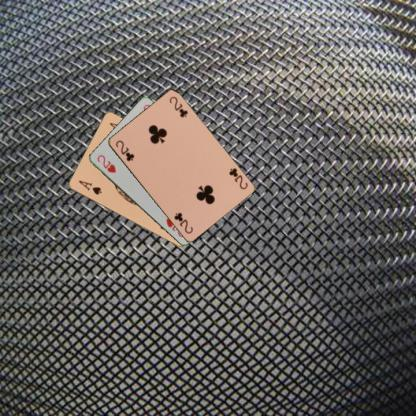2c: (226, 165, 249, 191), (113, 138, 135, 162)
2h: (94, 152, 117, 174)
As: (76, 178, 103, 196)
